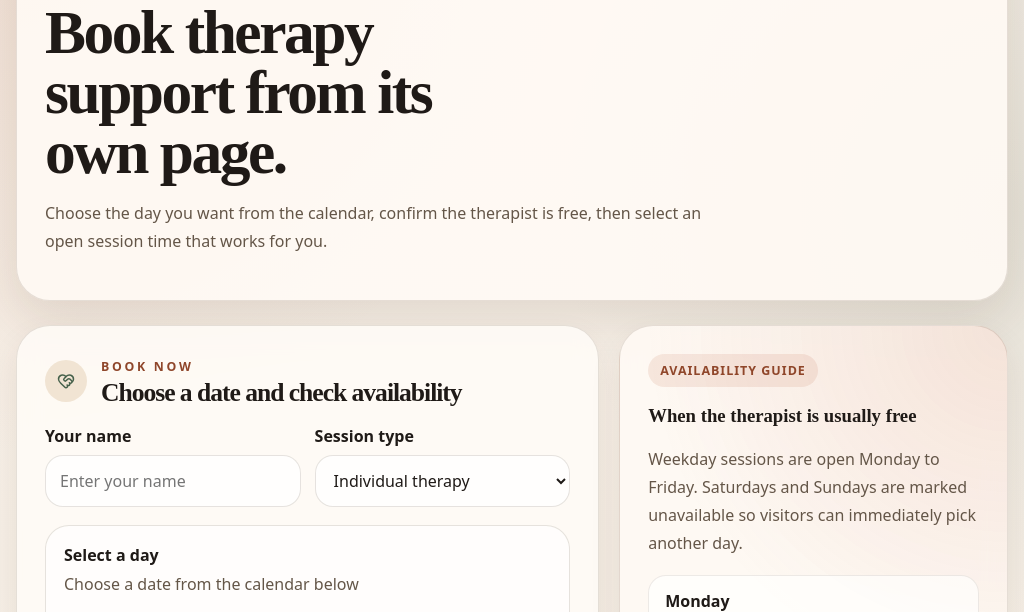
Scenario: TherapyAppointmentsPage › lets the user open the calendar page and book a therapist slot
The image size is (1024, 612).
Type "Amina" into the field labelled "Your name" at coordinates (173, 481), box [45,455,301,507]
(page scrolled)
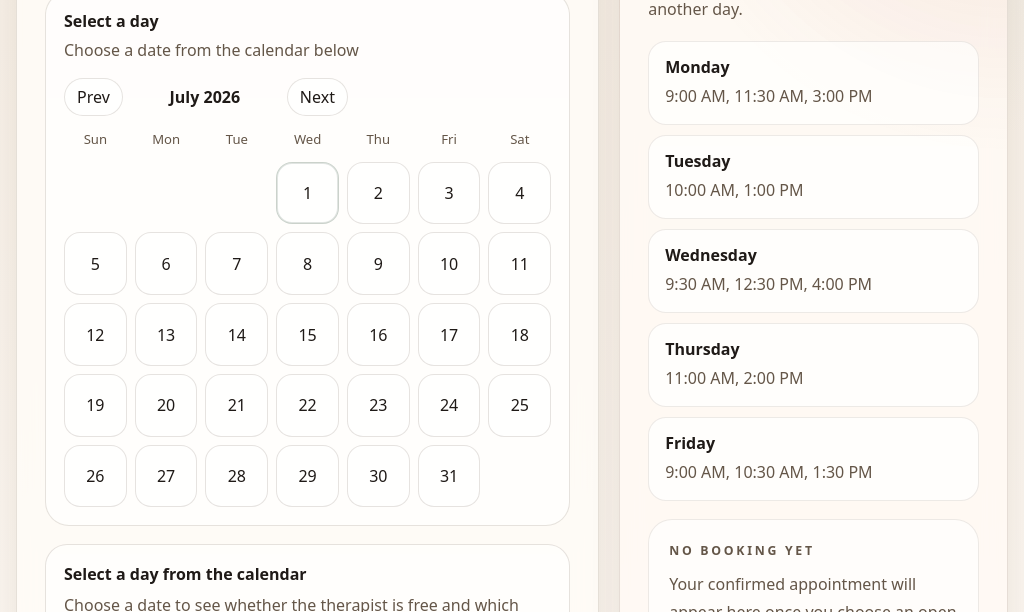
Click the button named "select saturday, july 11, 2026" at coordinates (520, 264), box [488,232,551,295]
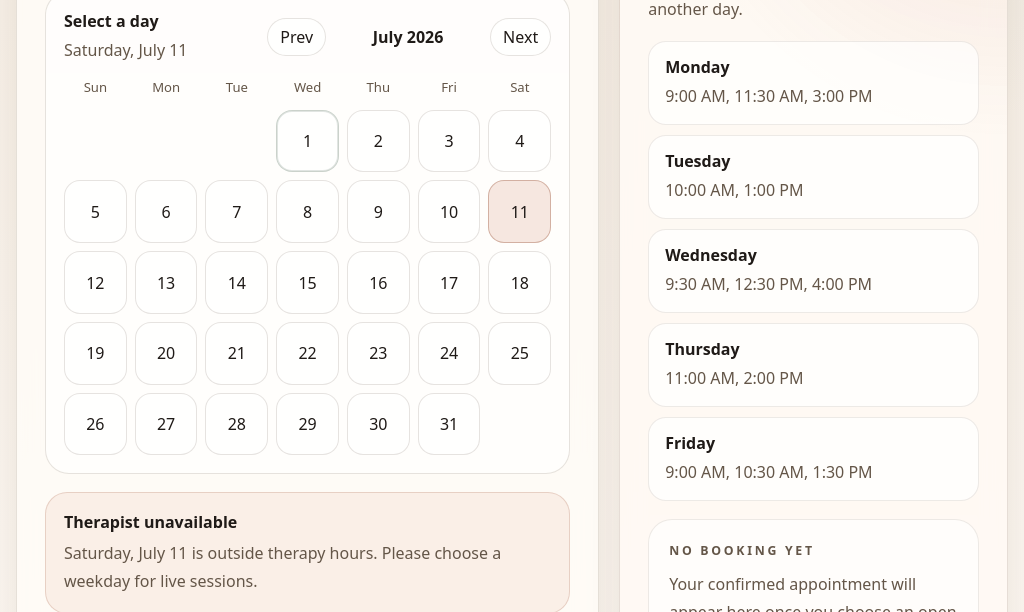
Expected: the text "Therapist unavailable" is shown, [64,511,237,533]
Click the button named "select monday, july 6, 2026" at coordinates (166, 212), box [135,180,197,243]
(page scrolled)
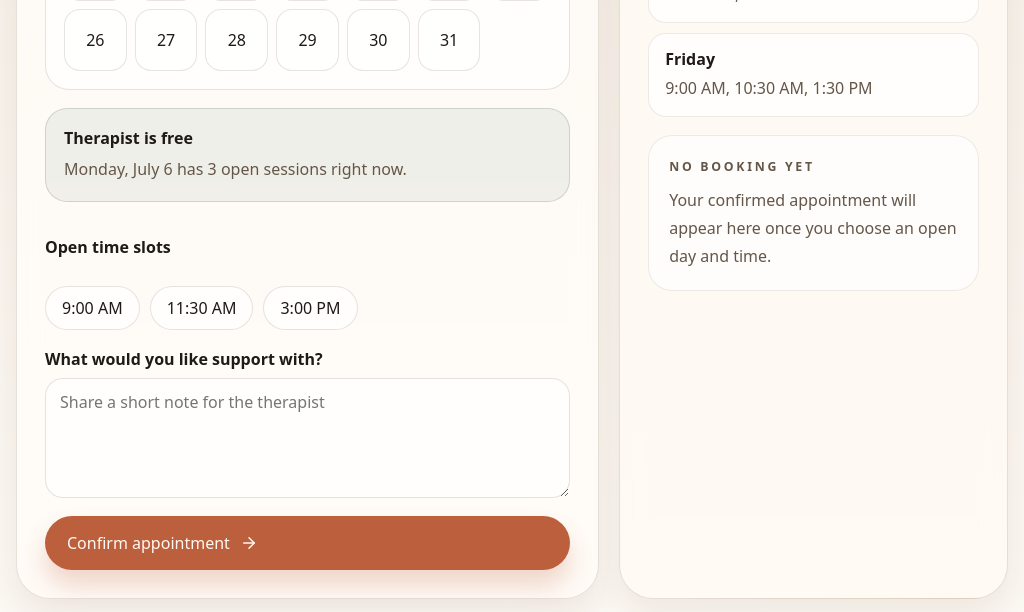
Expected: the text "Therapist is free" is shown, [64,127,193,149]
Click the button "9:00 AM" at coordinates (92, 308), box [45,286,140,330]
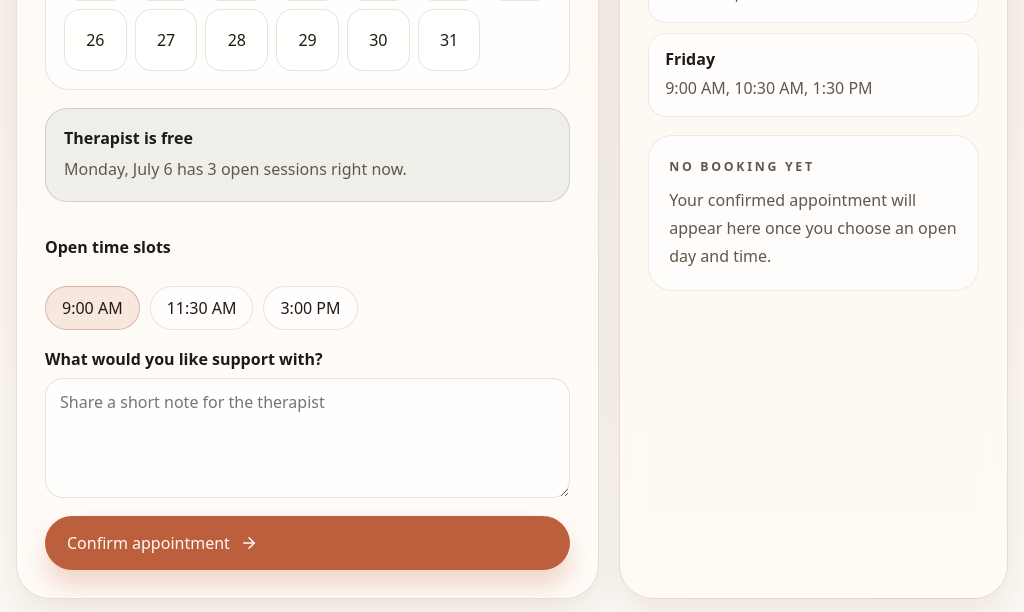
Click the button "Confirm appointment" at coordinates (148, 543), box [45,516,570,570]
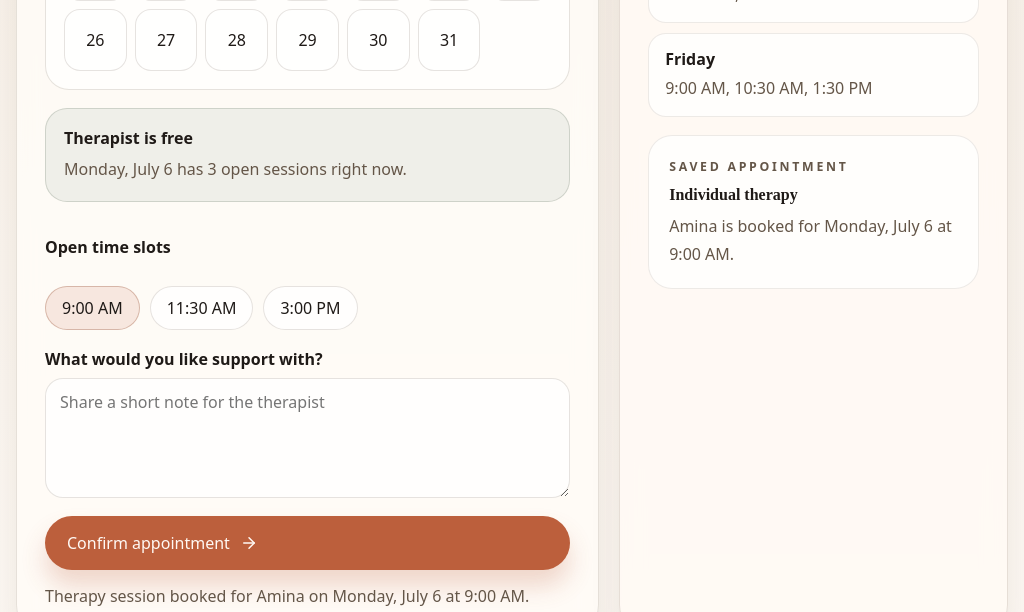
Expected: the text "Therapy session booked for Amina on Monday, July 6 at 9:00 AM" is shown, [45,585,529,607]
